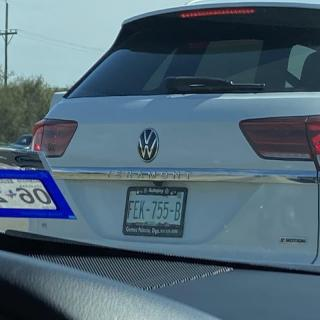license: (123, 187, 189, 240)
